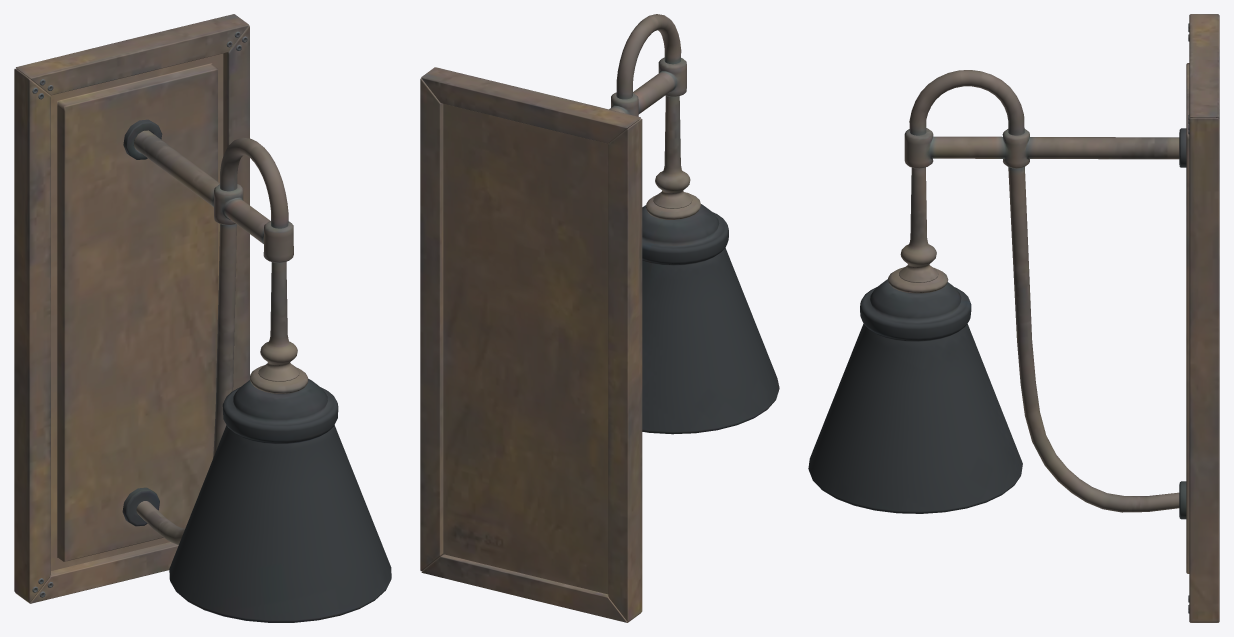
Rendered from industrial_wall_sconce.glb.
The picture shows the model from 3 angles, left to right: view 1: azimuth 30°, elevation 25°; view 2: azimuth 150°, elevation 25°; view 3: azimuth 270°, elevation 25°; orthographic projection. The views are drawn at different scales.
Visible parts, largest first — view 1: industrial_wall_sconce; view 2: industrial_wall_sconce; view 3: industrial_wall_sconce.
Part boxes in pixels (x1,y1,x2,y2): industrial_wall_sconce: [14, 14, 391, 622]; industrial_wall_sconce: [420, 14, 779, 622]; industrial_wall_sconce: [808, 14, 1219, 622].
Bounding box in the file's own units: 0.1503 × 0.3418 × 0.2516.
2 materials, 2 textured.
